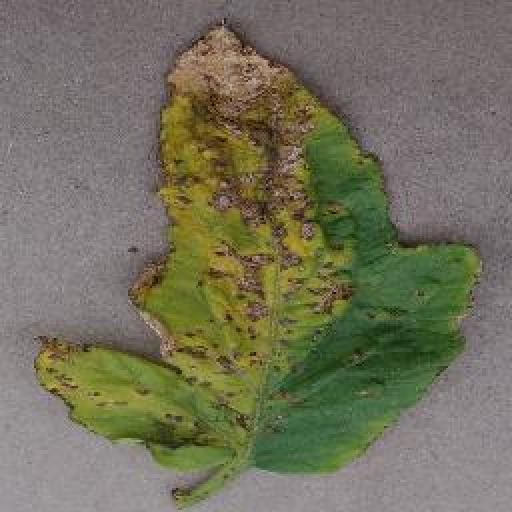Bacterial Spot: (29, 16, 487, 479)
